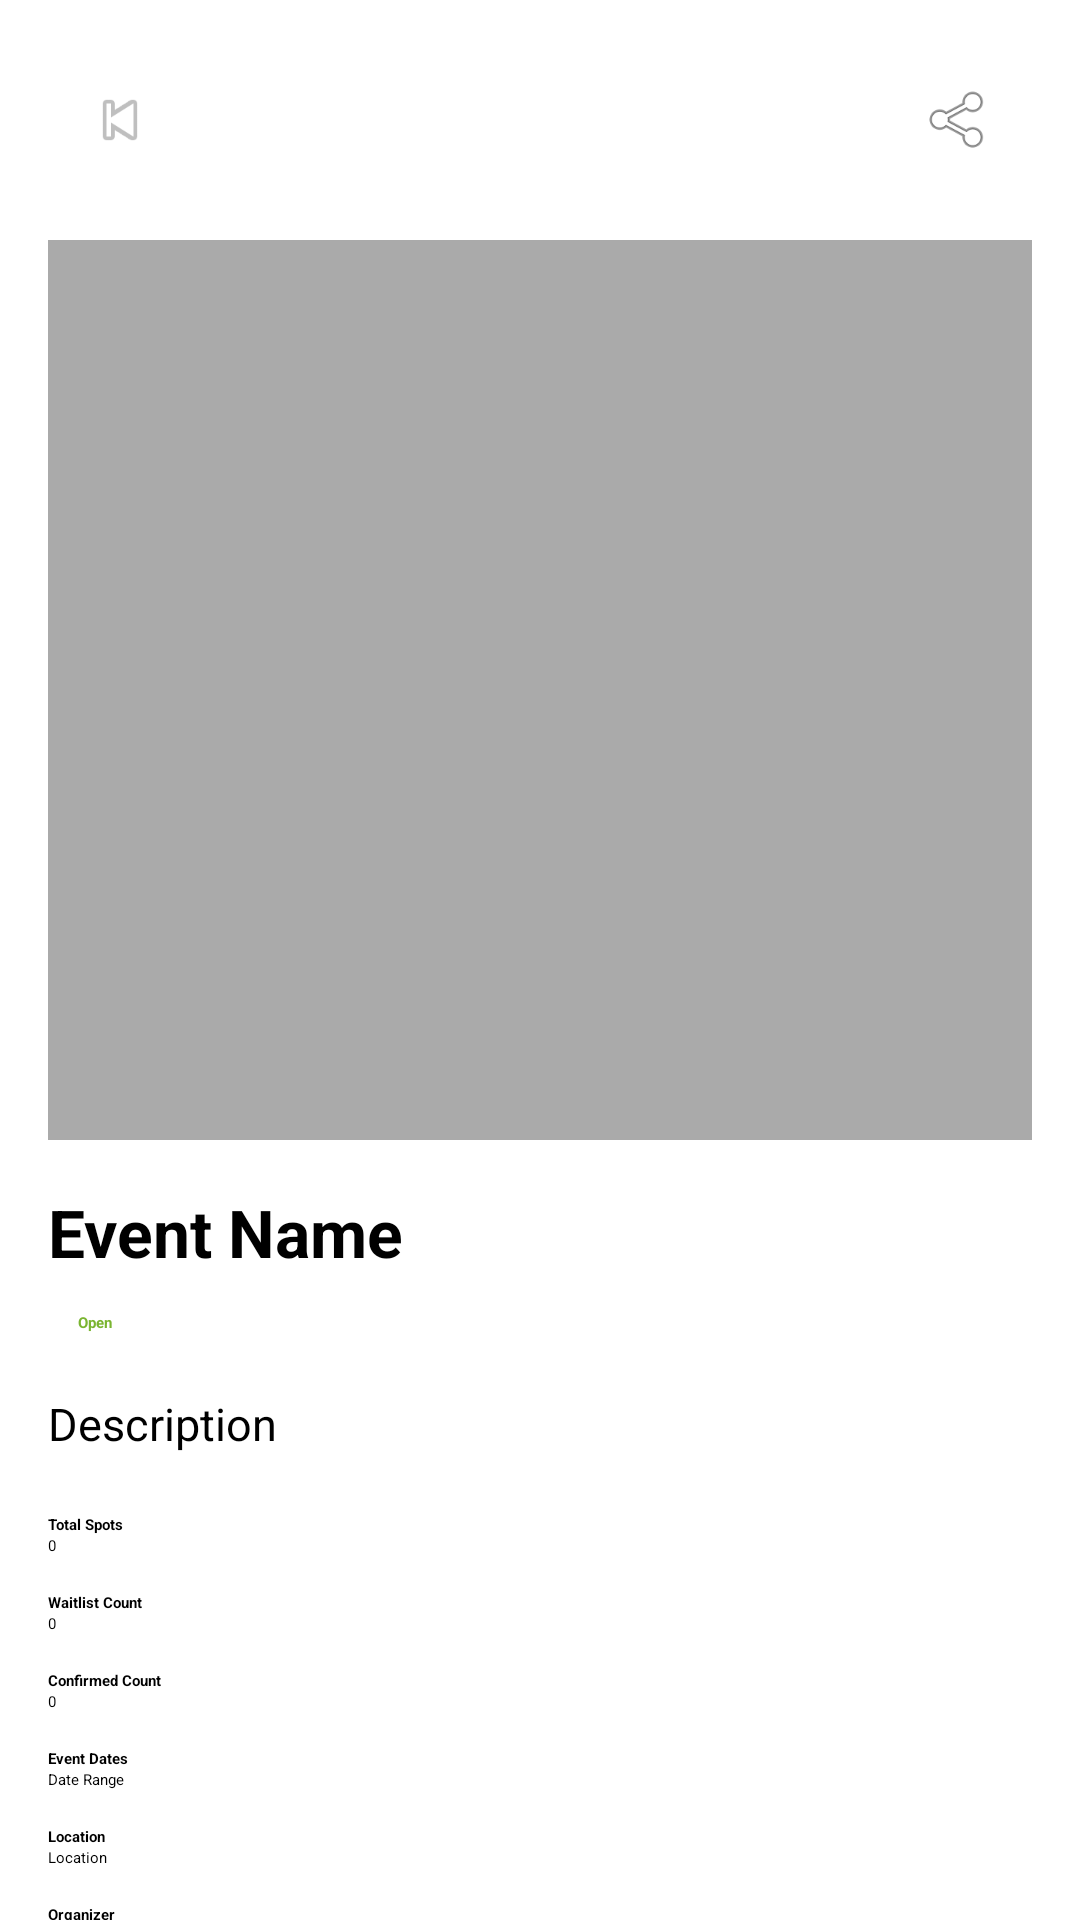

Icon bounding boxes for this 1080×1920 phone screenshot, format (x1,y1,x2,y2):
Back: (103,100,137,140)
